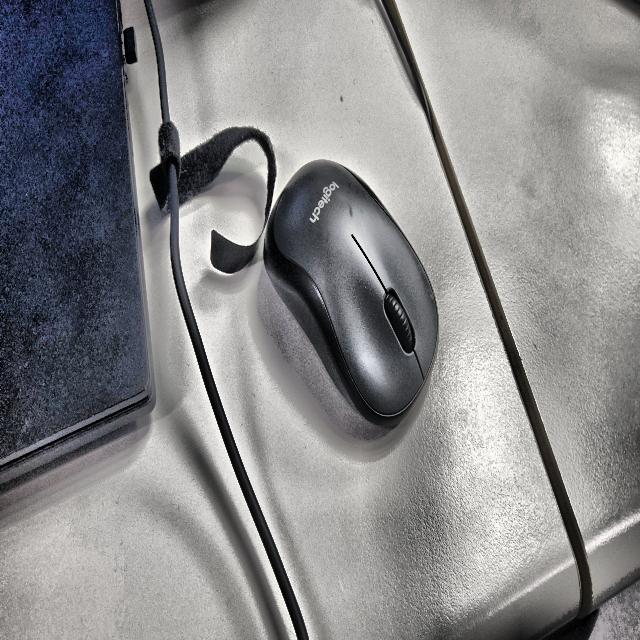Laptop: (0, 0, 155, 485)
MOUSE: (264, 160, 439, 424)
